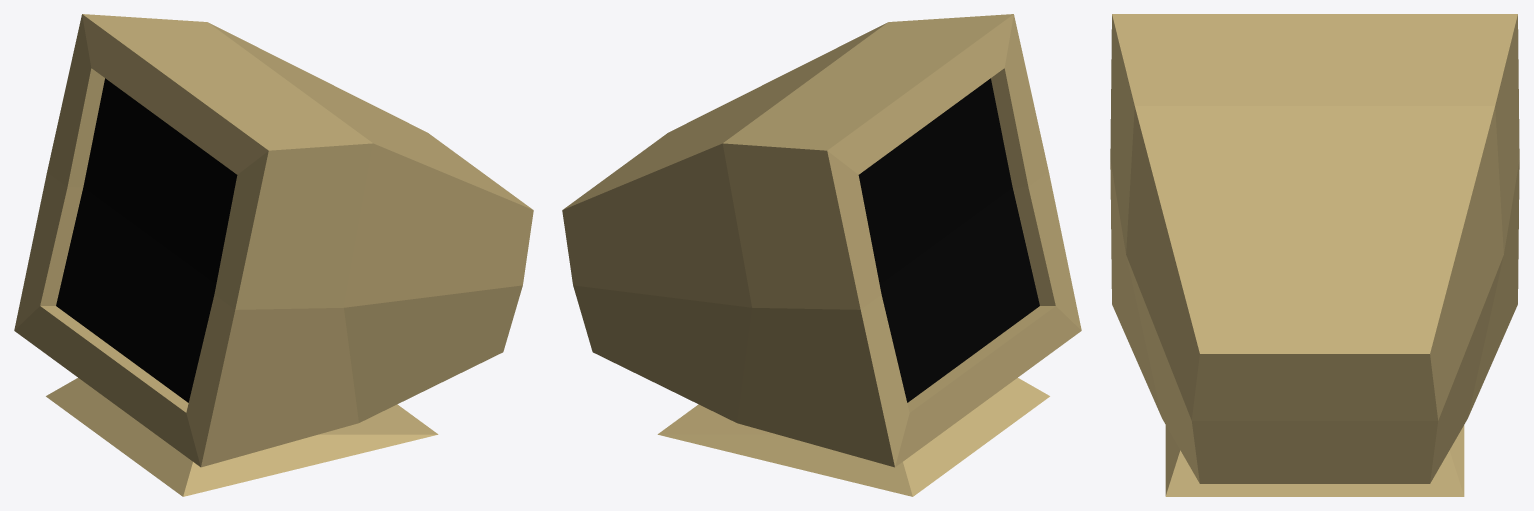
Rendered from Monitor.fbx.
3 views of the same model, side by side, from view 1: azimuth 30°, elevation 25°; view 2: azimuth 150°, elevation 25°; view 3: azimuth 270°, elevation 25° (orthographic). The views are drawn at different scales.
Visible parts, largest first — view 1: Cube; view 2: Cube; view 3: Cube.
Boxes of the visible parts, x1,y1,x2,y2 form: Cube: (14,14,533,496); Cube: (562,14,1081,496); Cube: (1110,14,1519,496).
Bounding box in the file's own units: 220 × 197 × 192.
